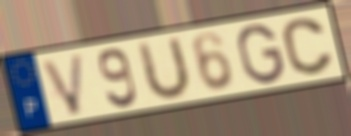6: (190, 30, 235, 94)
9: (97, 47, 138, 109)
C: (279, 16, 336, 78)
G: (235, 22, 287, 86)
U: (137, 34, 193, 105)
V: (38, 51, 86, 119)
